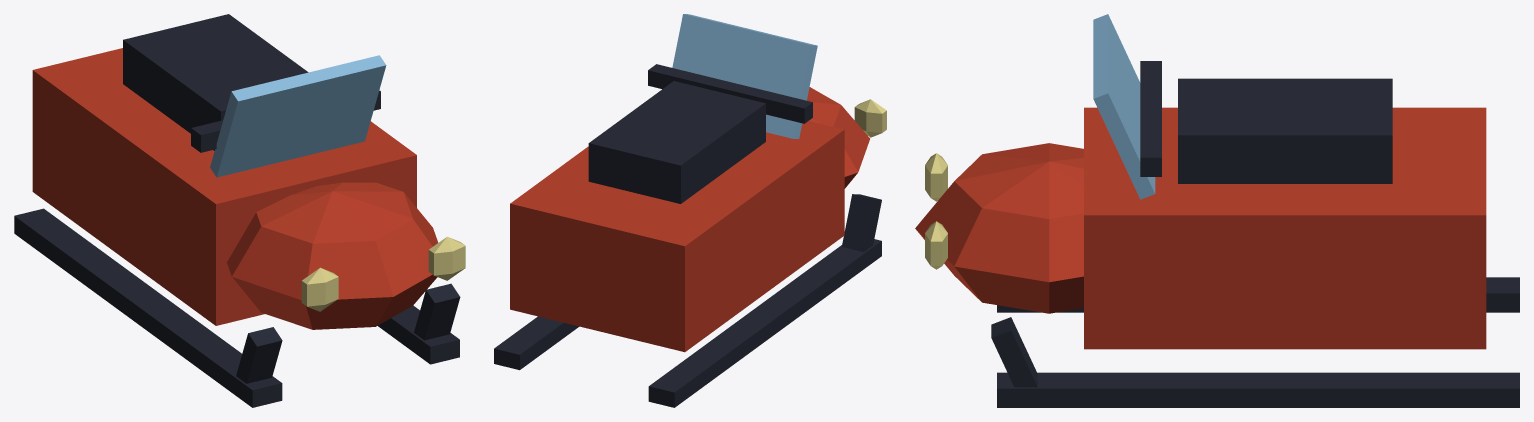
Rendered from prop_sled.glb.
3 renders of one model, left to right at view 1: azimuth 30°, elevation 25°; view 2: azimuth 150°, elevation 25°; view 3: azimuth 270°, elevation 25°, orthographic. The views are drawn at different scales.
Parts seen in each view (by area): view 1: sled; view 2: sled; view 3: sled.
Part boxes in pixels (<box>): sled: <box>14,14,465,407</box>; sled: <box>494,14,886,407</box>; sled: <box>915,14,1519,407</box>.
Bounding box in the file's own units: 0.98 × 1.23 × 2.26.
